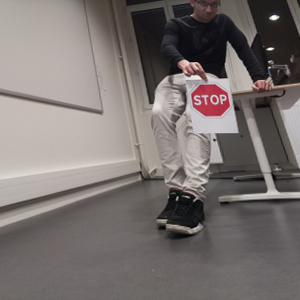stop: (190, 83, 231, 118)
